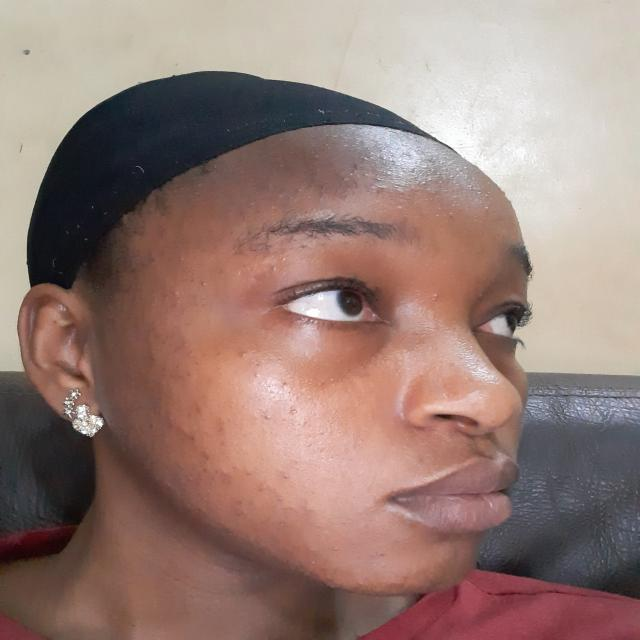Acne: (339, 170, 388, 196), (200, 450, 234, 477), (250, 484, 284, 504), (273, 186, 305, 203), (173, 425, 199, 444), (159, 292, 184, 309), (216, 415, 227, 450), (376, 551, 396, 569), (431, 209, 456, 223), (317, 578, 343, 590), (188, 404, 208, 419), (237, 269, 257, 284), (160, 408, 180, 421), (247, 173, 262, 190), (352, 151, 371, 164), (181, 472, 201, 484), (318, 184, 330, 204), (272, 262, 288, 276), (147, 344, 158, 362), (241, 349, 254, 364), (246, 199, 262, 211), (483, 195, 494, 212), (245, 466, 259, 479), (194, 277, 210, 288), (234, 508, 251, 517), (470, 215, 485, 225), (353, 580, 371, 588), (187, 348, 199, 360), (378, 157, 398, 164), (443, 200, 460, 208), (286, 408, 302, 416), (280, 473, 292, 482), (459, 163, 472, 171), (395, 206, 409, 213), (433, 179, 447, 186), (174, 255, 186, 263), (189, 187, 201, 195), (261, 414, 273, 421), (418, 179, 428, 187), (431, 295, 442, 302), (232, 500, 245, 505), (426, 191, 439, 196), (333, 545, 341, 553), (186, 264, 196, 270), (466, 184, 474, 191), (174, 362, 183, 368), (401, 575, 410, 581), (282, 254, 288, 262), (312, 155, 321, 159), (180, 237, 187, 242), (478, 191, 481, 196)
Englarged-Pores: (303, 436, 342, 468), (264, 382, 303, 406), (276, 450, 306, 473), (236, 386, 258, 416), (322, 410, 355, 429), (278, 418, 318, 432), (460, 356, 488, 376), (446, 335, 468, 350), (351, 491, 366, 506)
Eyebags: (288, 338, 395, 389)
